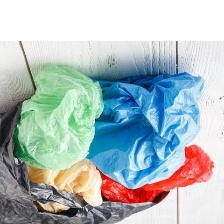plastic_bag: (0, 94, 171, 224), (81, 69, 208, 190), (12, 60, 106, 172), (95, 142, 216, 207), (18, 154, 104, 210)
